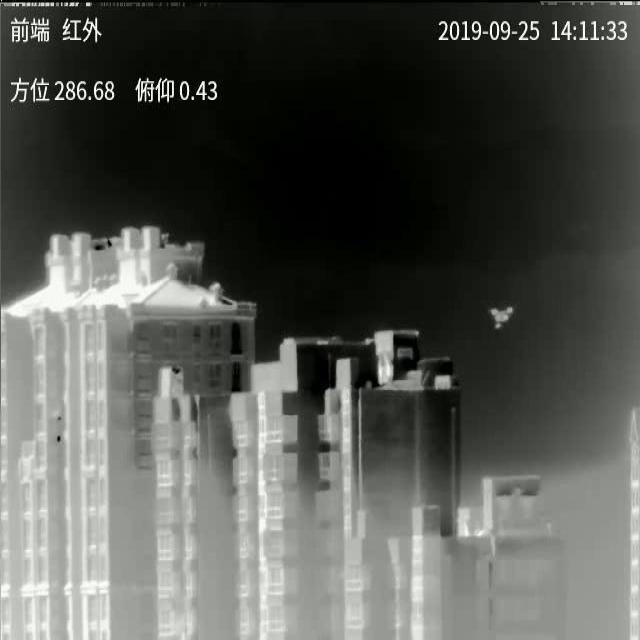drone: (489, 306, 514, 329)
